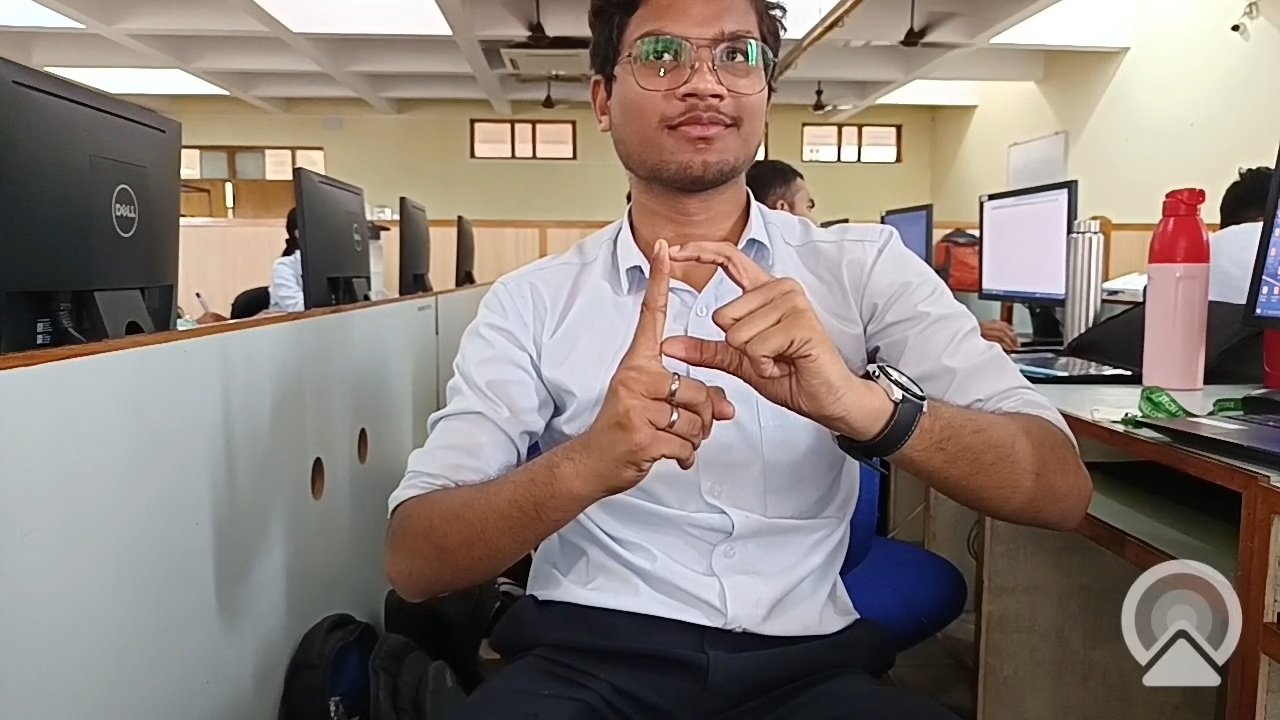D: (591, 229, 864, 415)
